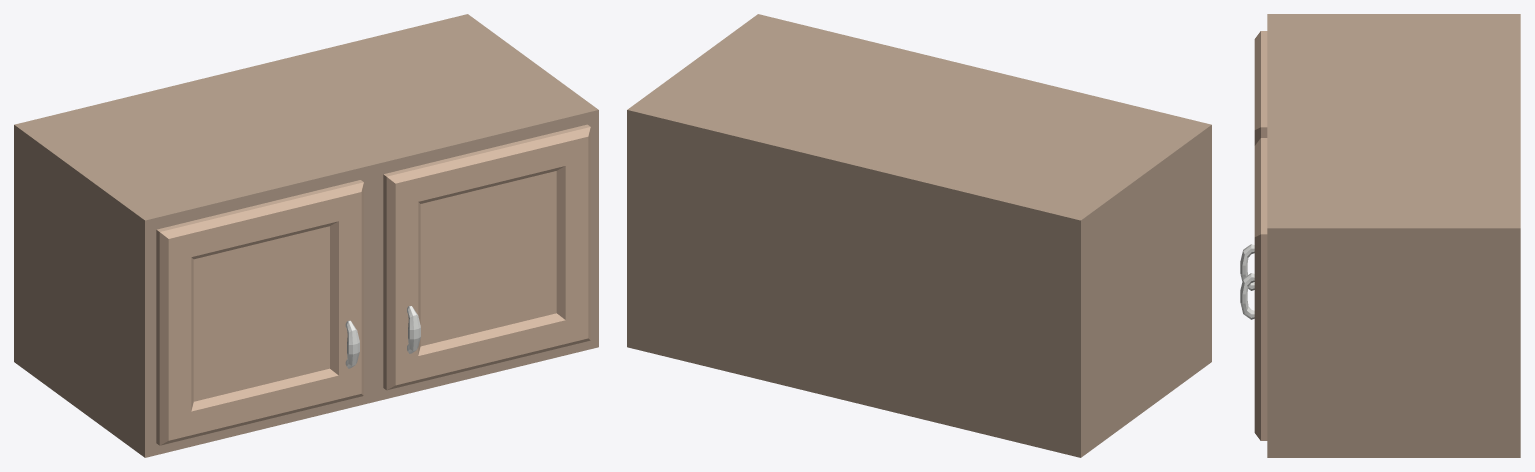
File: Structure_Kitchen_Cabinet_Wall_Half.fbx
3 renders of one model, left to right at view 1: azimuth 30°, elevation 25°; view 2: azimuth 150°, elevation 25°; view 3: azimuth 270°, elevation 25°, orthographic. The views are drawn at different scales.
Parts seen in each view (by area): view 1: object3.044, object2.055, object1.093; view 2: object3.044; view 3: object3.044, object2.055, object1.093, object4.031, object5.023.
Part boxes in pixels (bbox=[...]): object3.044: bbox=[14, 14, 598, 457]; object2.055: bbox=[383, 124, 590, 390]; object1.093: bbox=[156, 180, 363, 445]; object3.044: bbox=[627, 14, 1211, 457]; object3.044: bbox=[1267, 14, 1520, 457]; object2.055: bbox=[1254, 138, 1267, 440]; object1.093: bbox=[1254, 31, 1267, 145]; object4.031: bbox=[1240, 273, 1254, 319]; object5.023: bbox=[1240, 244, 1254, 290].
Bounding box in the file's own units: 100 × 50 × 55.31.
